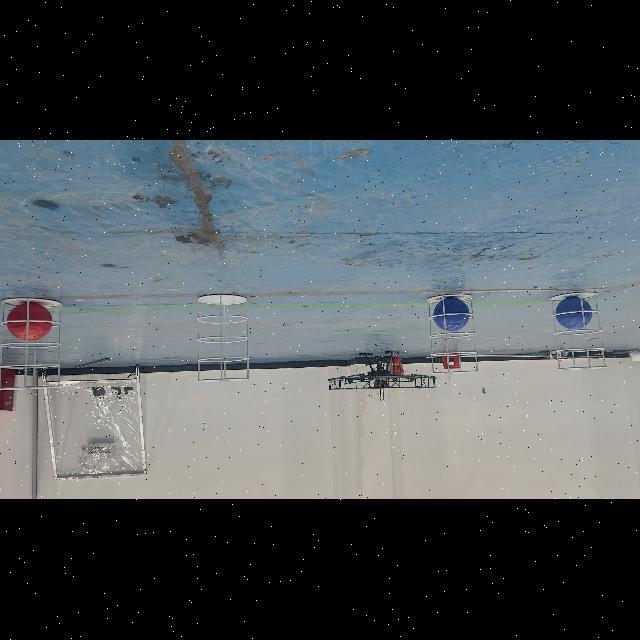B: (430, 298, 470, 332), (554, 298, 594, 330)
R: (5, 303, 52, 341)
S: (0, 296, 70, 392), (190, 292, 252, 384), (548, 290, 608, 372), (422, 292, 480, 376)
